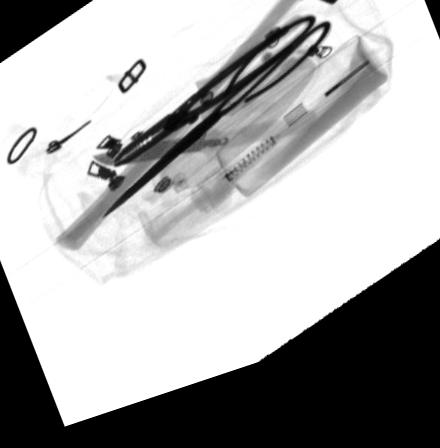Hammer: (58, 0, 352, 256)
Knife: (91, 128, 317, 173)
Pliers: (112, 42, 306, 175)
Scissors: (101, 33, 333, 223)
